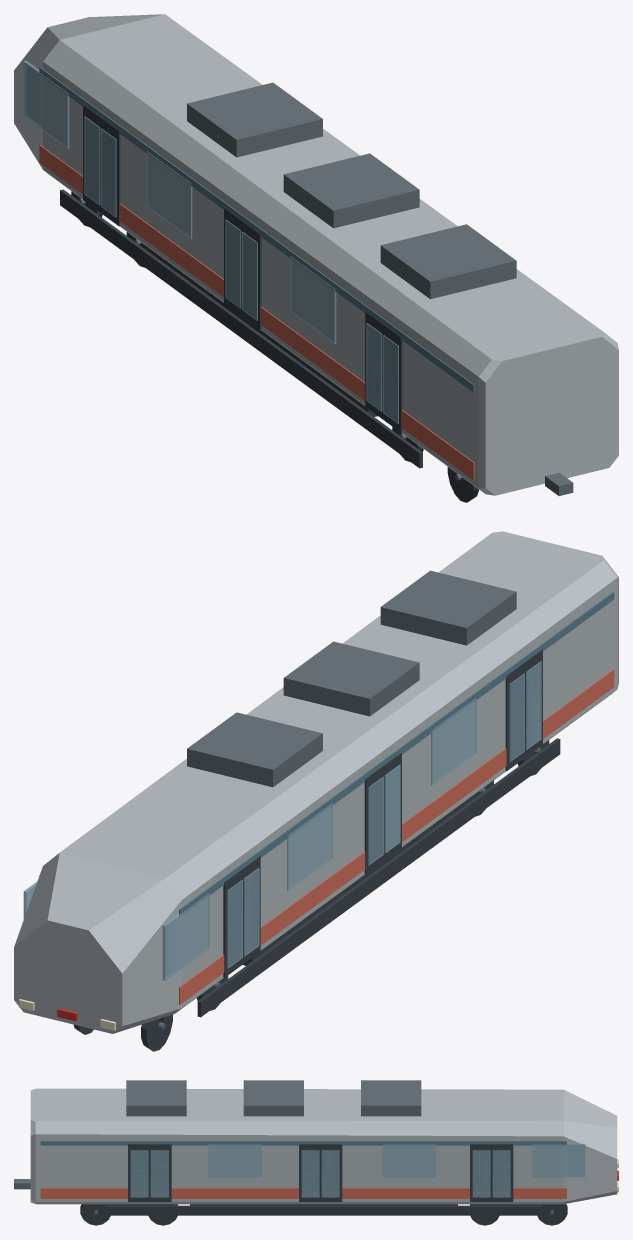
Rendered from RAIL_01.obj.
3 renders of one model, top to bottom at view 1: azimuth 30°, elevation 25°; view 2: azimuth 150°, elevation 25°; view 3: azimuth 270°, elevation 25°, orthographic. The views are drawn at different scales.
Visible parts, largest first — view 1: body, roof_equipment, doors, stripe, windows, skirts, undercarriage, bogie_-5.8; view 2: body, roof_equipment, doors, stripe, windows, skirts, bogie_+5.8, undercarriage; view 3: body, doors, stripe, roof_equipment, windows, skirts, bogie_-5.8, bogie_+5.8, undercarriage.
Boxes of the visible parts, left/top/right/bottom form: body: left=14, top=14, right=618, bottom=495; roof_equipment: left=187, top=82, right=516, bottom=299; doors: left=83, top=104, right=402, bottom=432; stripe: left=39, top=67, right=474, bottom=480; windows: left=23, top=60, right=336, bottom=343; skirts: left=60, top=189, right=422, bottom=468; undercarriage: left=147, top=246, right=377, bottom=416; bogie_-5.8: left=392, top=426, right=478, bottom=502; body: left=14, top=531, right=618, bottom=1033; roof_equipment: left=187, top=570, right=516, bottom=787; doors: left=223, top=649, right=542, bottom=977; stripe: left=179, top=591, right=614, bottom=1004; windows: left=23, top=698, right=476, bottom=980; skirts: left=197, top=738, right=560, bottom=1017; bogie_+5.8: left=73, top=975, right=228, bottom=1051; undercarriage: left=242, top=795, right=473, bottom=965; body: left=30, top=1088, right=617, bottom=1204; doors: left=128, top=1144, right=513, bottom=1201; stripe: left=40, top=1141, right=566, bottom=1198; roof_equipment: left=126, top=1080, right=421, bottom=1116; windows: left=208, top=1143, right=585, bottom=1177; skirts: left=106, top=1205, right=541, bottom=1215; bogie_-5.8: left=80, top=1204, right=177, bottom=1225; bogie_+5.8: left=470, top=1204, right=567, bottom=1225; undercarriage: left=190, top=1204, right=457, bottom=1205.
Bounding box in the file's own units: 3 × 4.03 × 18.05.
